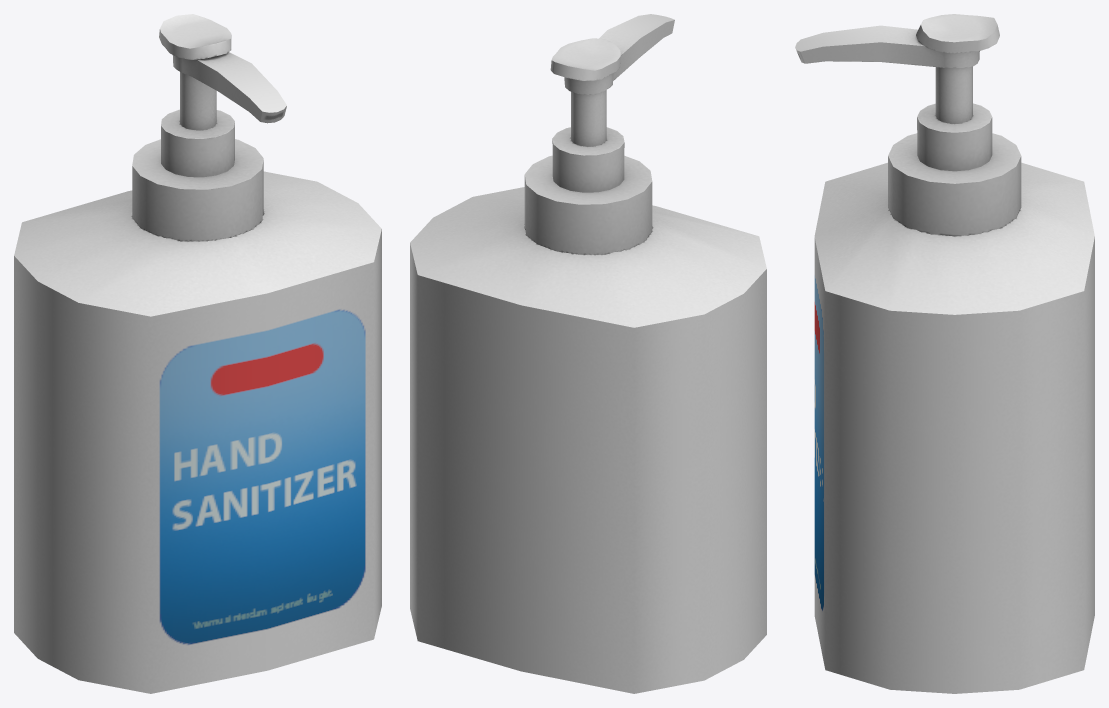
Rendered from Sanitizer.fbx.
The picture shows the model from 3 angles, left to right: view 1: azimuth 30°, elevation 25°; view 2: azimuth 150°, elevation 25°; view 3: azimuth 270°, elevation 25°; orthographic projection. The views are drawn at different scales.
Parts seen in each view (by area): view 1: Bottle, Pump; view 2: Bottle, Pump; view 3: Bottle, Pump.
Part boxes in pixels (left/top/right/bottom): Bottle: left=14, top=109, right=381, bottom=693; Pump: left=159, top=14, right=286, bottom=130; Bottle: left=410, top=127, right=766, bottom=693; Pump: left=550, top=14, right=674, bottom=146; Bottle: left=814, top=103, right=1094, bottom=693; Pump: left=795, top=14, right=999, bottom=123.
Size of the model in its own units: 14.59 by 25.59 by 11.77.
